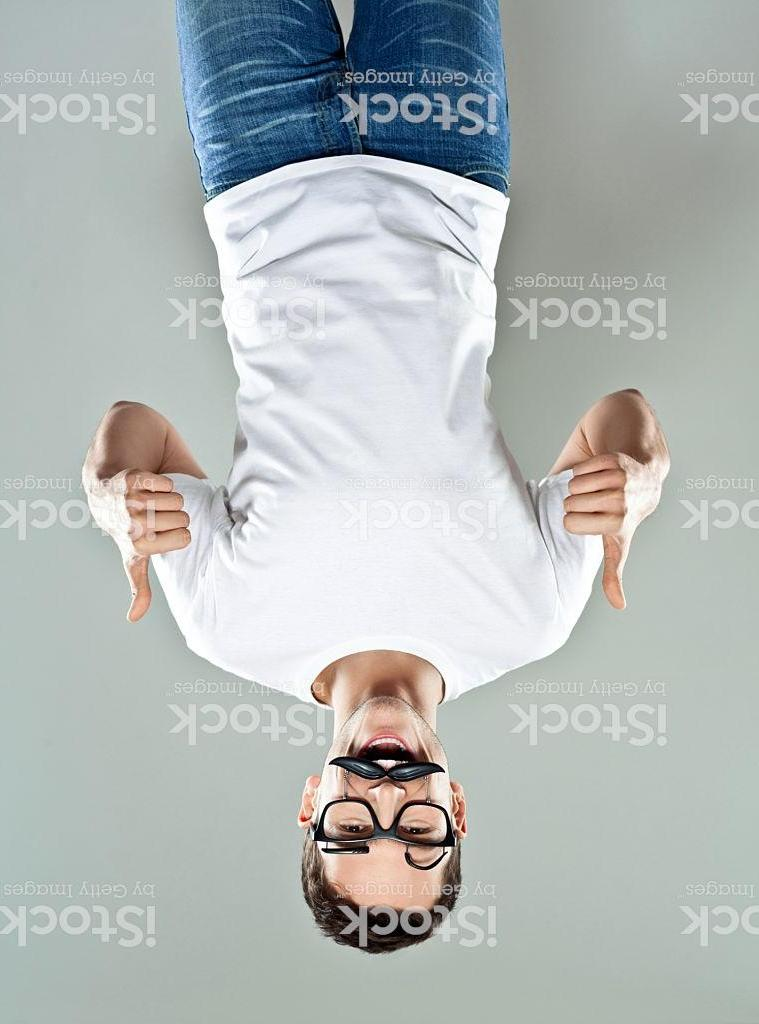thumbsdown: (561, 450, 646, 611), (118, 465, 194, 623)
